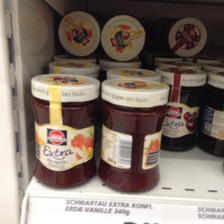jam: (30, 73, 100, 188), (101, 79, 170, 194), (158, 64, 206, 151)
